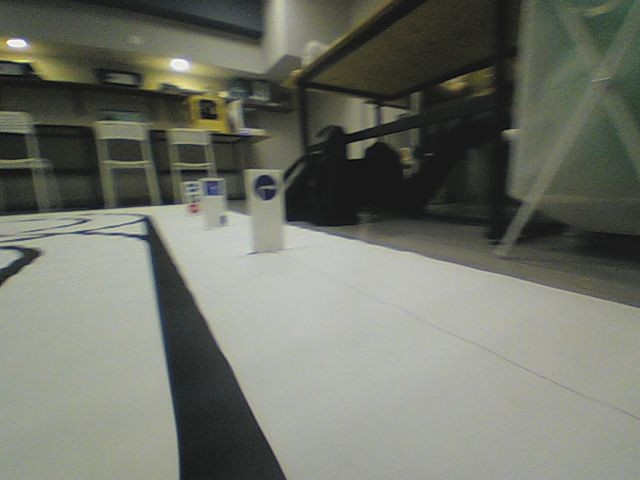Right: (252, 173, 278, 202)
